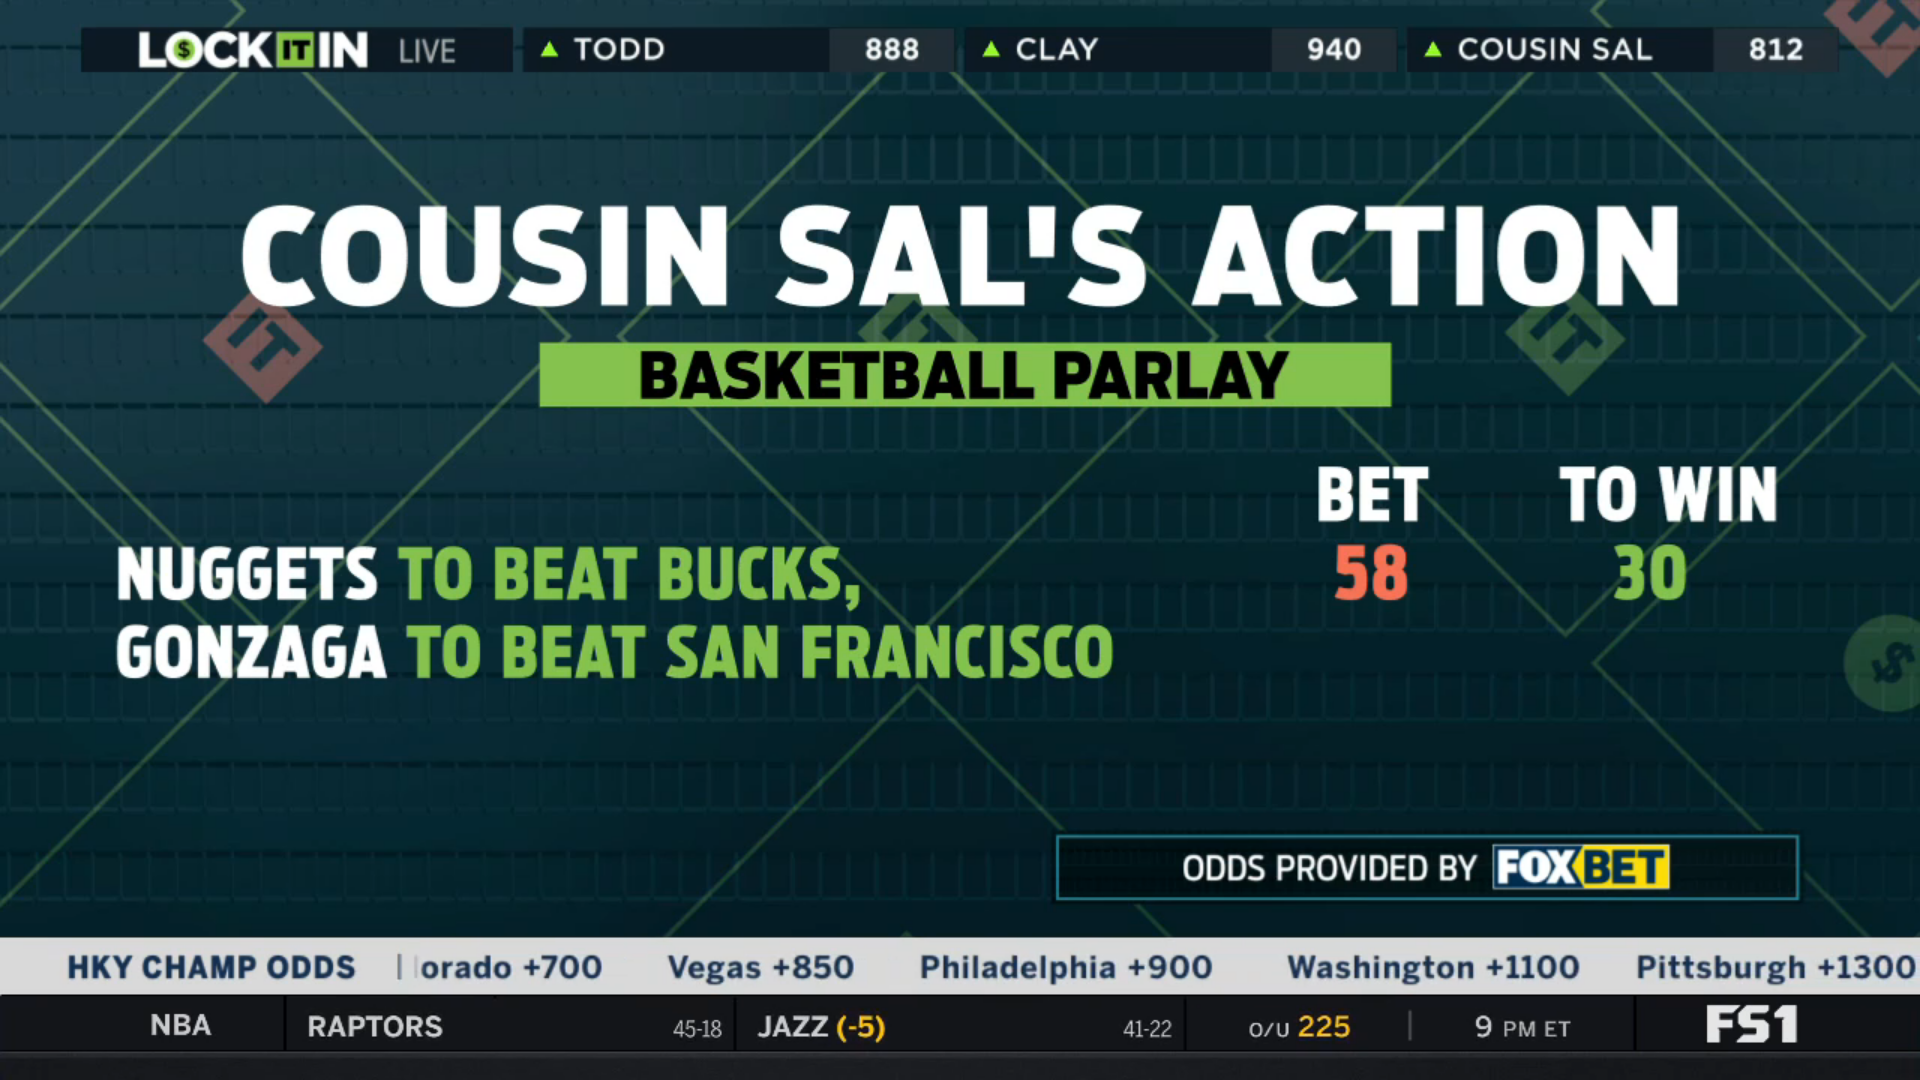Bet: (105, 533, 1131, 691)
Bet Amount: (1305, 452, 1439, 612)
Subtitle: (527, 332, 1408, 417)
Title: (231, 189, 1696, 316)
To Win: (1545, 448, 1788, 615)
Top Bar: (75, 17, 1847, 84)
